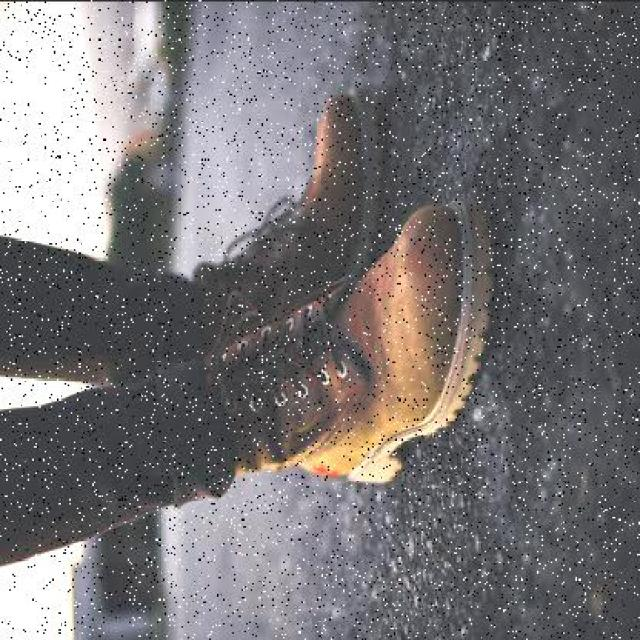shoes: (215, 194, 494, 486), (210, 78, 385, 350)
